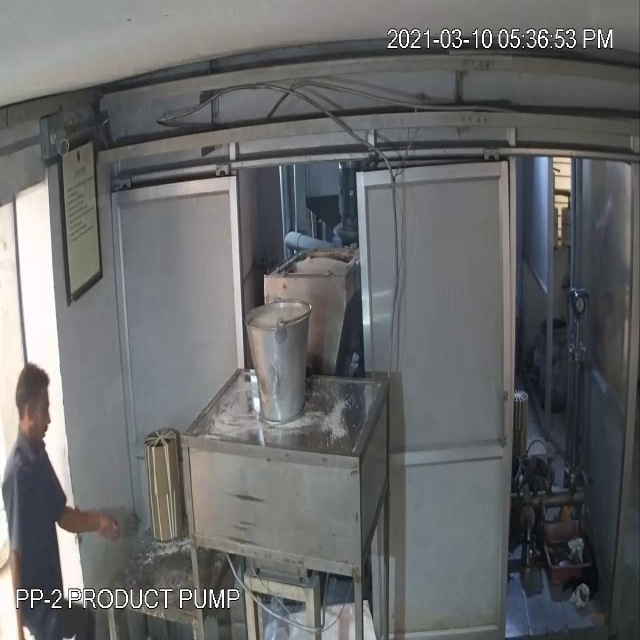Sin_guantes: (53, 483, 129, 560)
